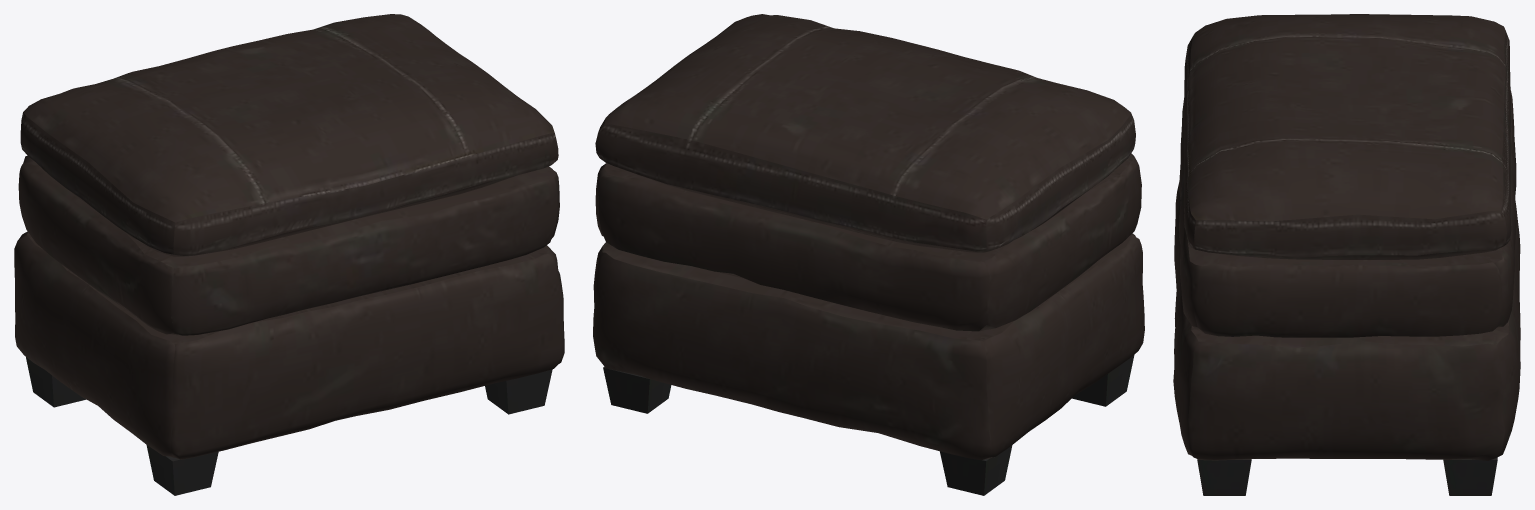
The model's file is ottoman.glb.
The picture shows the model from 3 angles, left to right: view 1: azimuth 30°, elevation 25°; view 2: azimuth 150°, elevation 25°; view 3: azimuth 270°, elevation 25°; orthographic projection.
Parts seen in each view (by area): view 1: Ottoman_01; view 2: Ottoman_01; view 3: Ottoman_01.
Part boxes in pixels (x1,y1,x2,y2): Ottoman_01: [14, 14, 564, 495]; Ottoman_01: [593, 14, 1144, 495]; Ottoman_01: [1173, 14, 1520, 495].
Size of the model in its own units: 0.885 by 0.625 by 0.62.
1 material, 1 textured.
